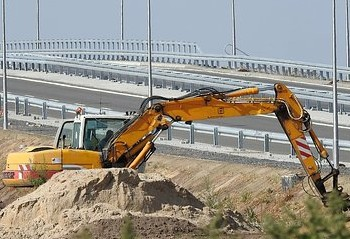excavator: (3, 78, 348, 219), (1, 76, 346, 217)
